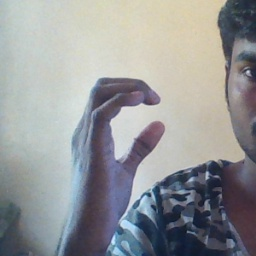C: (84, 70, 179, 181)
